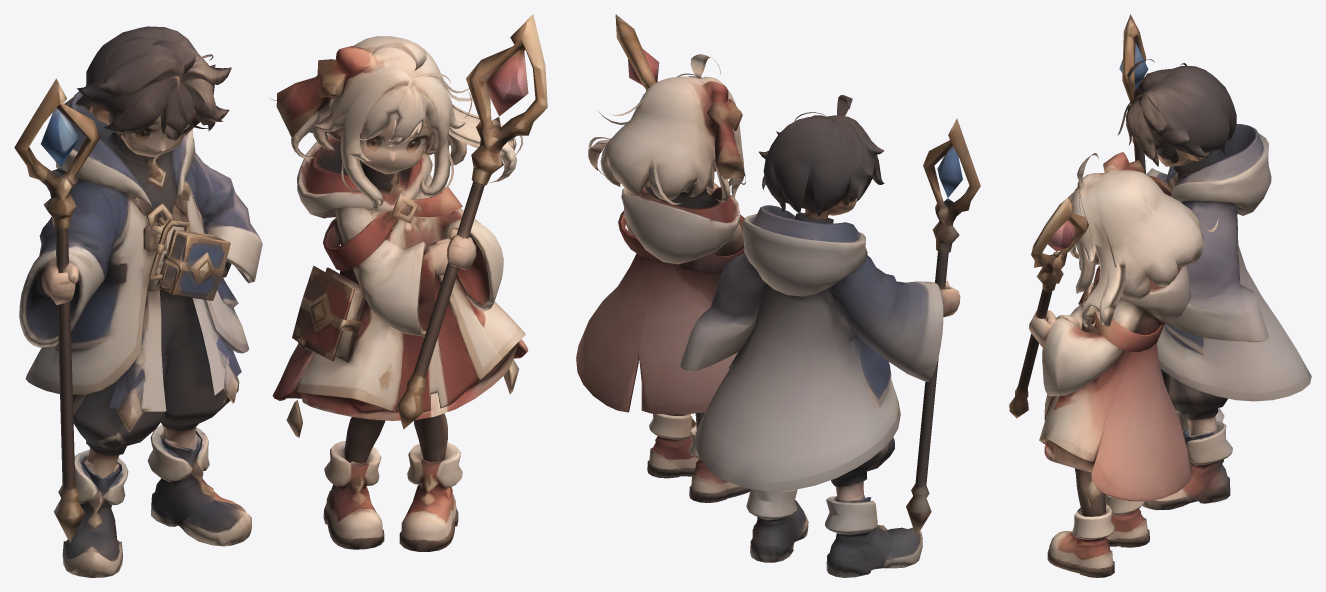
3 views of the same model, side by side, from view 1: azimuth 30°, elevation 25°; view 2: azimuth 150°, elevation 25°; view 3: azimuth 270°, elevation 25° (orthographic). The views are drawn at different scales.
Parts seen in each view (by area): view 1: tripo_node_e68f2648-7df1-415f-b937-eaff72d91196; view 2: tripo_node_e68f2648-7df1-415f-b937-eaff72d91196; view 3: tripo_node_e68f2648-7df1-415f-b937-eaff72d91196.
Boxes of the visible parts, left/top/right/bottom form: tripo_node_e68f2648-7df1-415f-b937-eaff72d91196: left=14, top=14, right=547, bottom=577; tripo_node_e68f2648-7df1-415f-b937-eaff72d91196: left=576, top=14, right=980, bottom=577; tripo_node_e68f2648-7df1-415f-b937-eaff72d91196: left=1009, top=14, right=1311, bottom=577.
Bounding box in the file's own units: 0.9858 × 0.9995 × 0.6577.
1 material, 1 textured.
